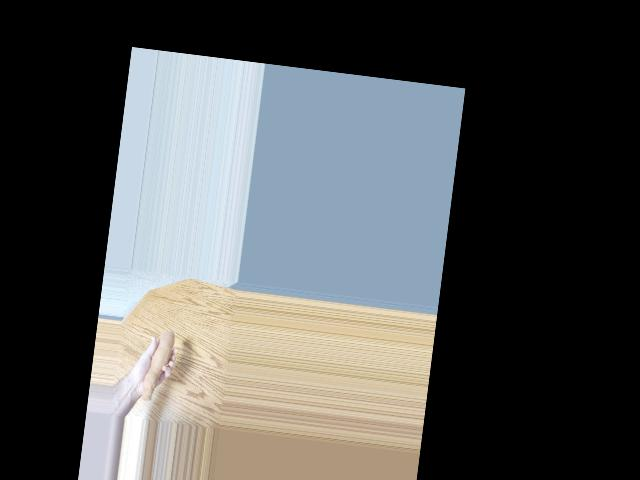sweet_potato: (140, 326, 176, 401)
